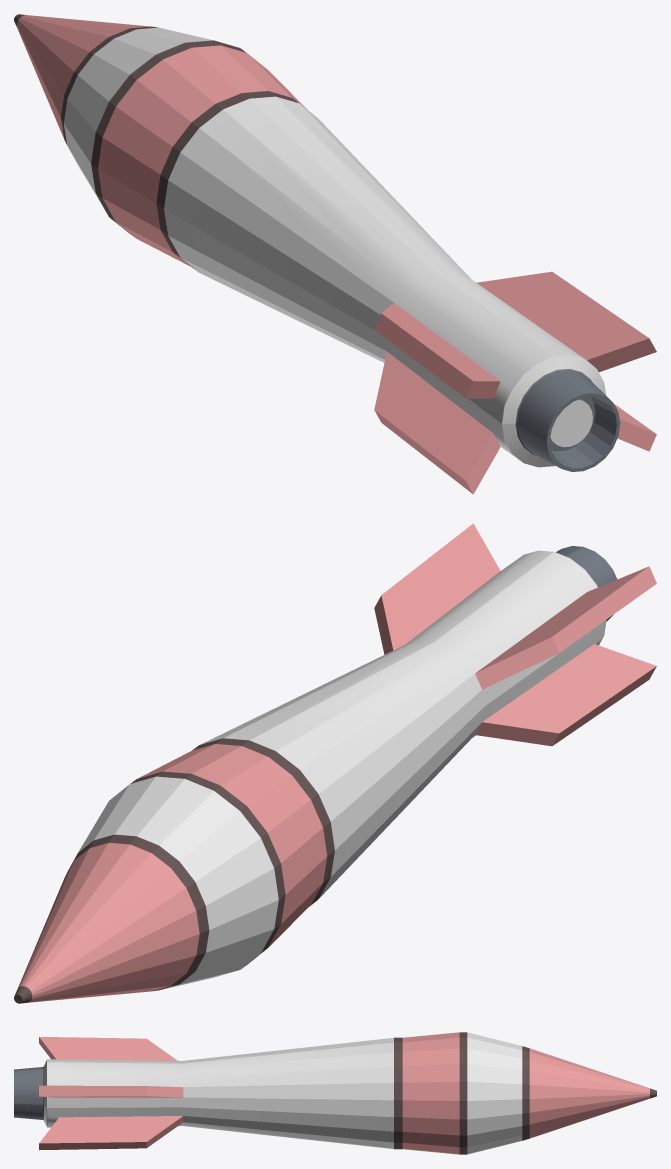
File: Import Obj.fbx
3 views of the same model, one above another, from view 1: azimuth 30°, elevation 25°; view 2: azimuth 150°, elevation 25°; view 3: azimuth 270°, elevation 25° (orthographic). The views are drawn at different scales.
Parts seen in each view (by area): view 1: rakete; view 2: rakete; view 3: rakete.
Part boxes in pixels (<box>): rakete: <box>14,14,656,494</box>; rakete: <box>14,523,656,1003</box>; rakete: <box>14,1032,656,1154</box>.
Bounding box in the file's own units: 0.6743 × 0.6623 × 3.45.
